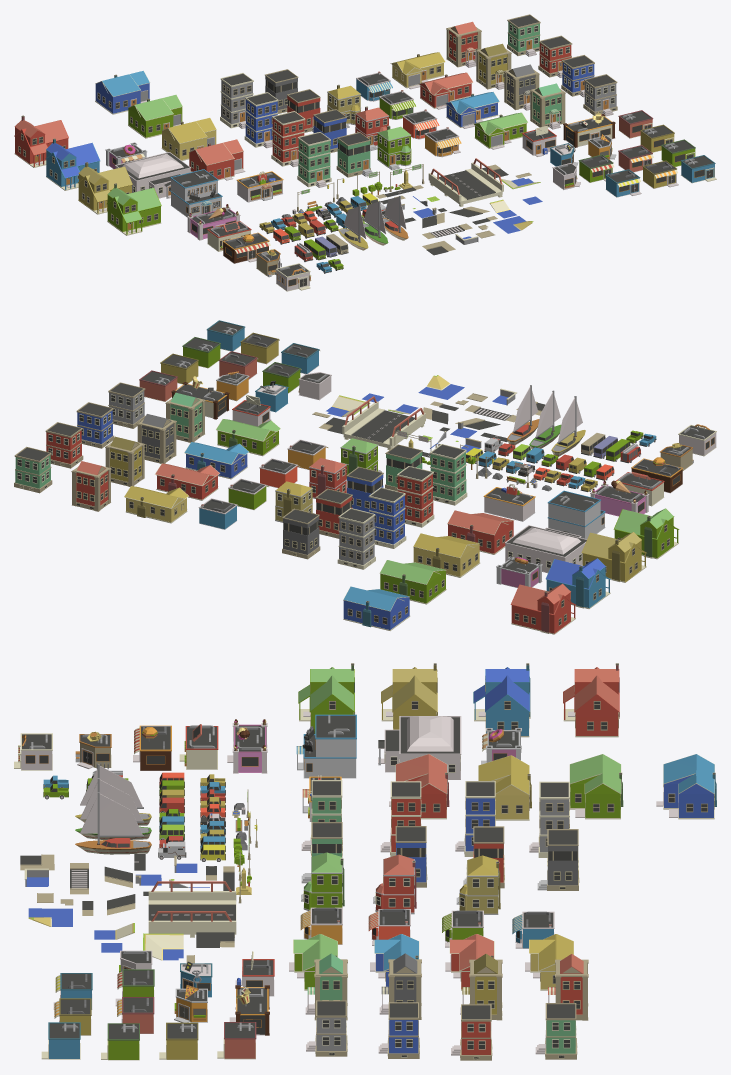
File: Low_Poly_Cartoon_City.glb
3 renders of one model, top to bottom at view 1: azimuth 30°, elevation 25°; view 2: azimuth 150°, elevation 25°; view 3: azimuth 270°, elevation 25°, orthographic. The views are drawn at different scales.
Parts seen in each view (by area): view 1: unnamed (×61); view 2: unnamed (×63); view 3: unnamed (×63).
Boxes of the visible parts, x1,y1,x2,y2 form: unnamed (×61): (14, 14, 716, 291); unnamed (×63): (14, 320, 716, 634); unnamed (×63): (14, 663, 716, 1060).
Bounding box in the file's own units: 148 × 13.19 × 125.
1 material, 1 textured.
